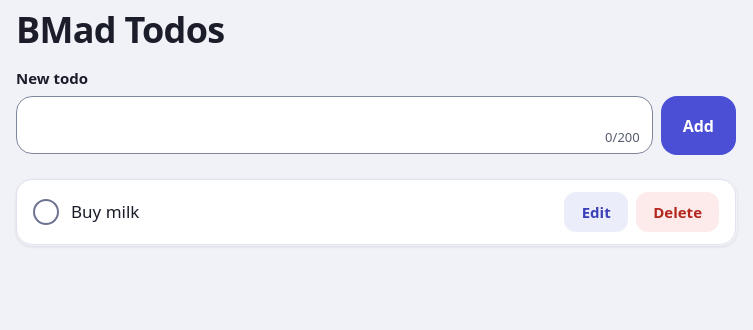
Test: EditForm › K3 a changed Save closes at once, shows the new text before the server answers, sends it and announces nothing
Click the button with aria-label "Edit “Buy milk”" at (596, 212), box [564,192,628,232]
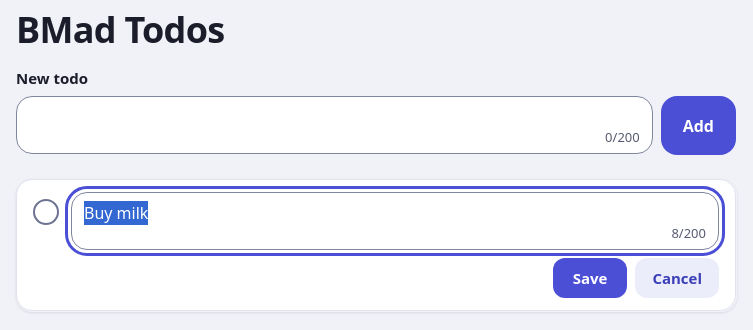
Type keys "Buy oat milk{Enter}"
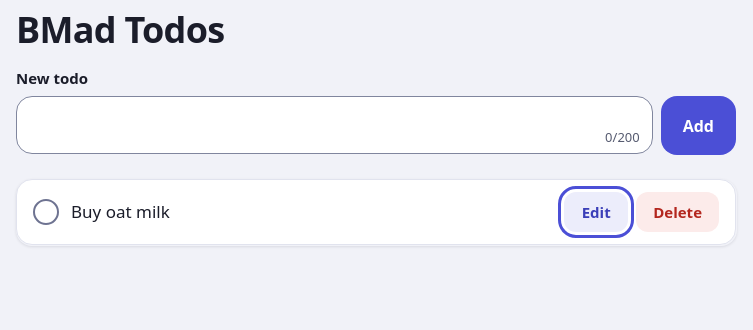
expect the field labelled "Edit description" is not shown: met
expect the text "Buy oat milk" is shown: met, box [71,200,170,223]
